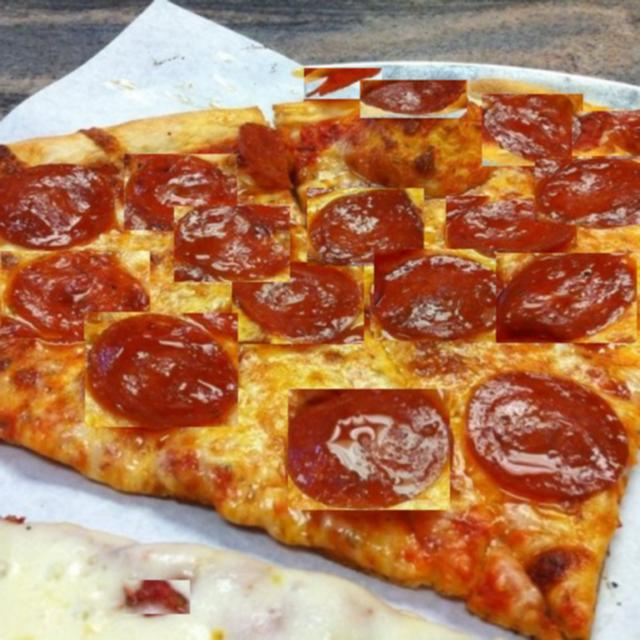pepperoni: (470, 365, 627, 502), (288, 389, 450, 510), (85, 313, 238, 427), (2, 252, 152, 340), (496, 253, 637, 343), (374, 249, 504, 341), (232, 262, 364, 344), (307, 188, 424, 266), (174, 206, 290, 282), (446, 196, 577, 263), (3, 167, 112, 247), (124, 154, 237, 230), (482, 95, 583, 167), (535, 159, 640, 225), (360, 80, 467, 118), (239, 117, 288, 188), (572, 111, 640, 158), (304, 68, 382, 99), (124, 580, 190, 614)
pizza: (0, 78, 640, 640)
